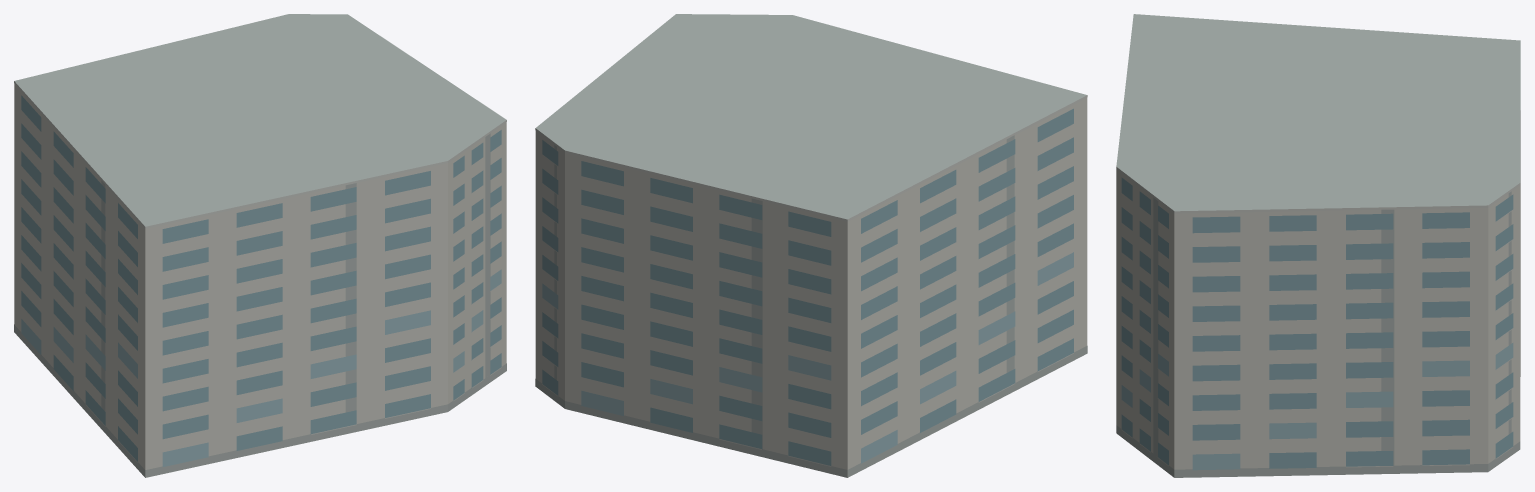
Rendered from residential-69922772-4a02-40e1-ae6b-d0ee41285c8b.glb.
The picture shows the model from 3 angles, left to right: view 1: azimuth 30°, elevation 25°; view 2: azimuth 150°, elevation 25°; view 3: azimuth 270°, elevation 25°; orthographic projection. The views are drawn at different scales.
Parts seen in each view (by area): view 1: residential-69922772-4a02-40e1-ae6b-d0ee41285c8b.tmp; view 2: residential-69922772-4a02-40e1-ae6b-d0ee41285c8b.tmp; view 3: residential-69922772-4a02-40e1-ae6b-d0ee41285c8b.tmp.
Boxes of the visible parts, x1,y1,x2,y2 form: residential-69922772-4a02-40e1-ae6b-d0ee41285c8b.tmp: [14, 14, 506, 477]; residential-69922772-4a02-40e1-ae6b-d0ee41285c8b.tmp: [535, 14, 1087, 477]; residential-69922772-4a02-40e1-ae6b-d0ee41285c8b.tmp: [1116, 14, 1520, 477].
Size of the model in its own units: 43.55 by 27.45 by 37.72.
